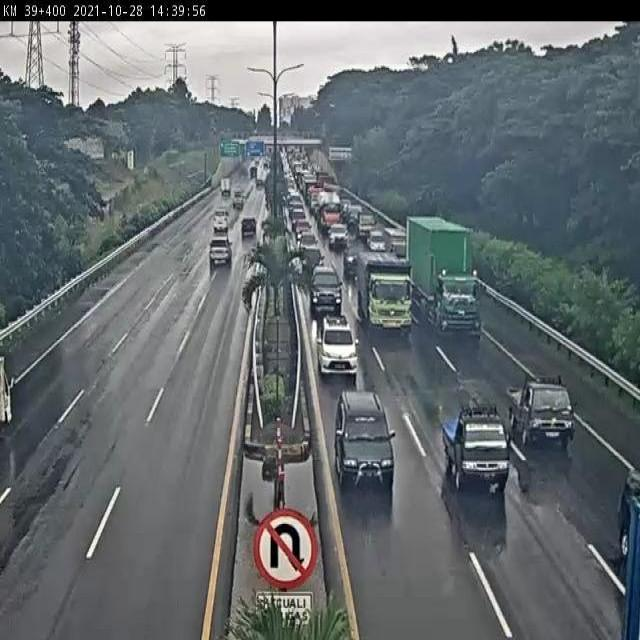big truck: (406, 218, 480, 338), (358, 250, 412, 334)
car: (336, 391, 395, 489), (445, 409, 510, 492), (507, 375, 573, 440), (316, 312, 359, 372), (310, 264, 344, 313), (209, 236, 235, 267), (344, 240, 366, 271), (302, 246, 326, 274), (385, 227, 406, 257), (355, 213, 377, 239), (366, 229, 387, 252), (329, 223, 348, 248), (211, 210, 231, 233), (238, 216, 258, 237)
